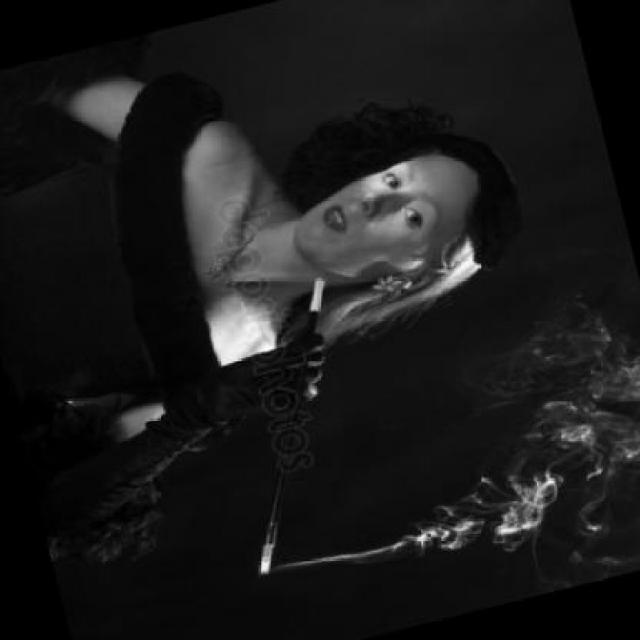cigarette: (246, 540, 285, 585)
